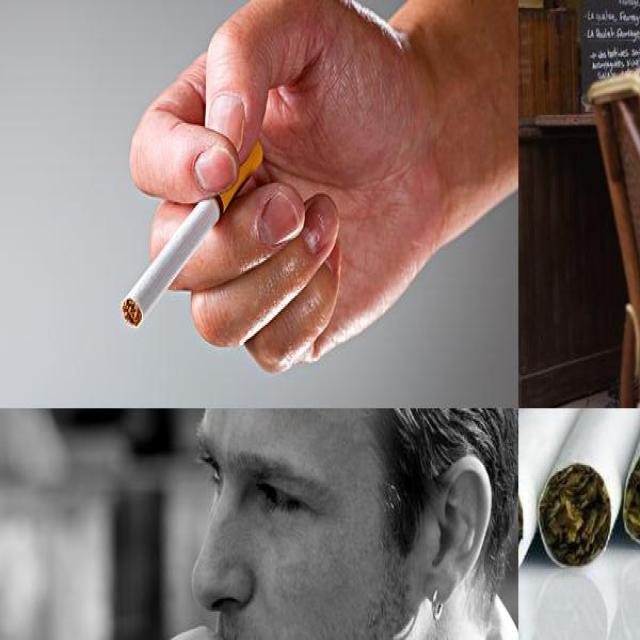smoking: (120, 139, 264, 332), (518, 408, 622, 585), (536, 408, 639, 571), (518, 408, 559, 602)
